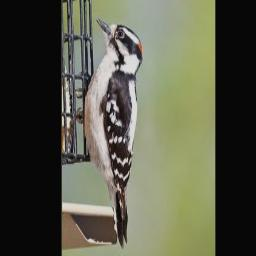Woodpecker: (75, 17, 145, 252)
